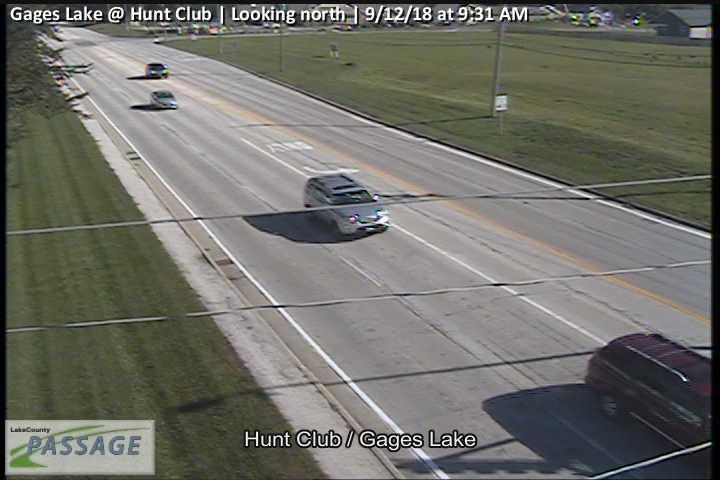SUV: (588, 331, 715, 465), (304, 174, 389, 237)
Sedan: (151, 91, 177, 108), (145, 63, 169, 78)
